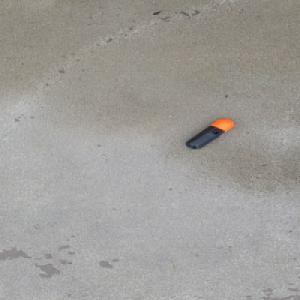PlasticPart: (185, 118, 234, 149)
